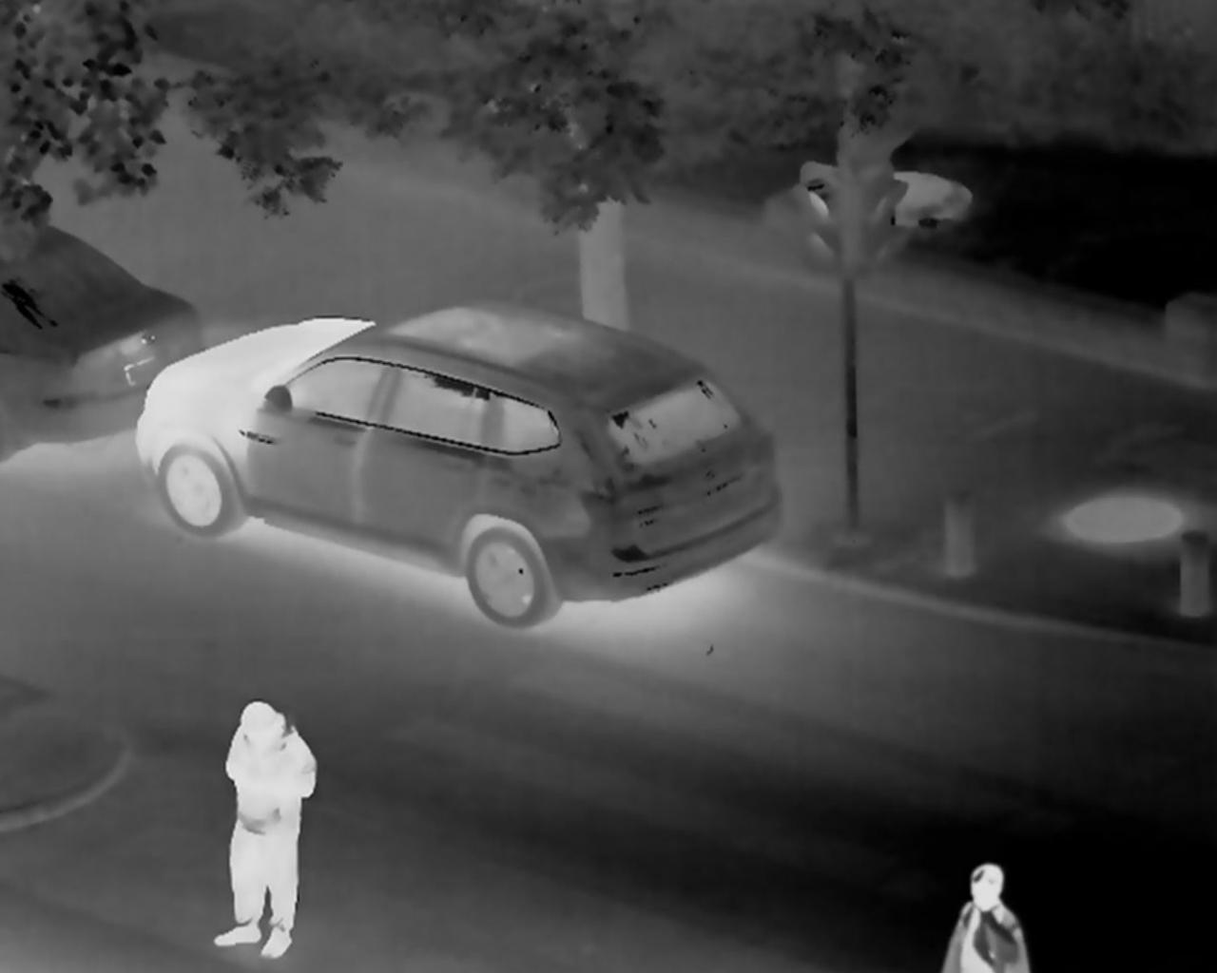person: (210, 696, 317, 960), (939, 857, 1036, 973)
